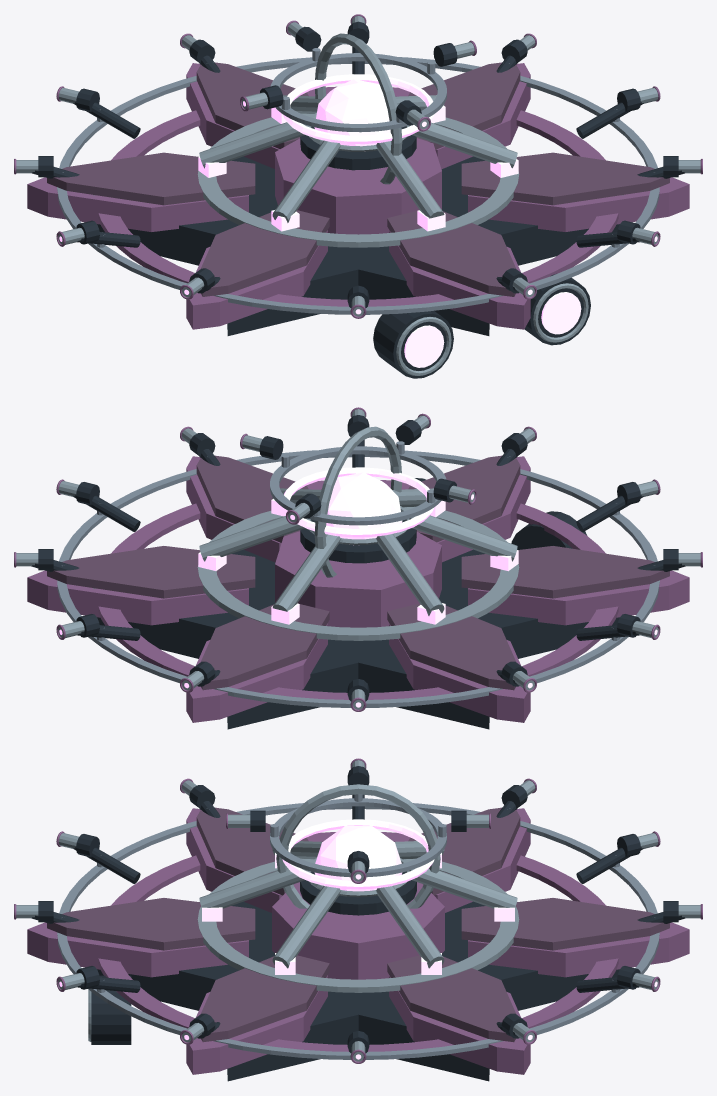
Rendered from chapter5Boss.glb.
3 views of the same model, one above another, from view 1: azimuth 30°, elevation 25°; view 2: azimuth 150°, elevation 25°; view 3: azimuth 270°, elevation 25° (orthographic).
Parts seen in each view (by area): view 1: chapter5Boss / CATEDRAL | armor, chapter5Boss / CATEDRAL | secondary, chapter5Boss / Graphite chassis, chapter5Boss / Titanium, chapter5Boss / CATEDRAL | energy, radial_rotor / Flower bearing titanium, radial_rotor / Graphite chassis, beam_rotor / Flower bearing titanium, radial_rotor / Titanium, beam_rotor / Graphite chassis, beam_rotor / Titanium, radial_rotor / CATEDRAL | armor; view 2: chapter5Boss / CATEDRAL | armor, chapter5Boss / CATEDRAL | secondary, chapter5Boss / Graphite chassis, chapter5Boss / Titanium, radial_rotor / Flower bearing titanium, radial_rotor / Graphite chassis, chapter5Boss / CATEDRAL | energy, beam_rotor / Flower bearing titanium, radial_rotor / Titanium, beam_rotor / Graphite chassis, beam_rotor / Titanium, radial_rotor / CATEDRAL | armor; view 3: chapter5Boss / CATEDRAL | armor, chapter5Boss / CATEDRAL | secondary, chapter5Boss / Titanium, chapter5Boss / Graphite chassis, radial_rotor / Flower bearing titanium, radial_rotor / Graphite chassis, chapter5Boss / CATEDRAL | energy, beam_rotor / Flower bearing titanium, radial_rotor / Titanium, beam_rotor / Graphite chassis, beam_rotor / Titanium, radial_rotor / CATEDRAL | armor.
Boxes of the visible parts, x1=… form: chapter5Boss / CATEDRAL | armor: x1=27, y1=63, x2=689, y2=329; chapter5Boss / CATEDRAL | secondary: x1=47, y1=62, x2=669, y2=296; chapter5Boss / Graphite chassis: x1=97, y1=126, x2=619, y2=378; chapter5Boss / Titanium: x1=197, y1=33, x2=588, y2=375; chapter5Boss / CATEDRAL | energy: x1=198, y1=74, x2=581, y2=367; radial_rotor / Flower bearing titanium: x1=57, y1=57, x2=659, y2=314; radial_rotor / Graphite chassis: x1=32, y1=21, x2=684, y2=308; beam_rotor / Flower bearing titanium: x1=270, y1=48, x2=446, y2=132; radial_rotor / Titanium: x1=16, y1=16, x2=700, y2=316; beam_rotor / Graphite chassis: x1=260, y1=26, x2=457, y2=125; beam_rotor / Titanium: x1=242, y1=22, x2=474, y2=129; radial_rotor / CATEDRAL | armor: x1=14, y1=14, x2=702, y2=318; chapter5Boss / CATEDRAL | armor: x1=27, y1=456, x2=689, y2=722; chapter5Boss / CATEDRAL | secondary: x1=47, y1=455, x2=669, y2=690; chapter5Boss / Graphite chassis: x1=97, y1=478, x2=619, y2=729; chapter5Boss / Titanium: x1=197, y1=426, x2=519, y2=640; radial_rotor / Flower bearing titanium: x1=57, y1=450, x2=659, y2=707; radial_rotor / Graphite chassis: x1=31, y1=415, x2=685, y2=701; chapter5Boss / CATEDRAL | energy: x1=198, y1=467, x2=518, y2=624; beam_rotor / Flower bearing titanium: x1=270, y1=441, x2=446, y2=525; radial_rotor / Titanium: x1=16, y1=409, x2=700, y2=709; beam_rotor / Graphite chassis: x1=259, y1=420, x2=456, y2=518; beam_rotor / Titanium: x1=242, y1=415, x2=474, y2=522; radial_rotor / CATEDRAL | armor: x1=14, y1=407, x2=702, y2=711; chapter5Boss / CATEDRAL | armor: x1=27, y1=808, x2=689, y2=1074; chapter5Boss / CATEDRAL | secondary: x1=47, y1=807, x2=669, y2=1042; chapter5Boss / Titanium: x1=88, y1=784, x2=519, y2=1041; chapter5Boss / Graphite chassis: x1=91, y1=871, x2=619, y2=1081; radial_rotor / Flower bearing titanium: x1=57, y1=803, x2=659, y2=1059; radial_rotor / Graphite chassis: x1=31, y1=782, x2=685, y2=1053; chapter5Boss / CATEDRAL | energy: x1=202, y1=819, x2=514, y2=974; beam_rotor / Flower bearing titanium: x1=270, y1=794, x2=446, y2=877; radial_rotor / Titanium: x1=16, y1=780, x2=700, y2=1061; beam_rotor / Graphite chassis: x1=250, y1=766, x2=466, y2=873; beam_rotor / Titanium: x1=228, y1=760, x2=488, y2=881; radial_rotor / CATEDRAL | armor: x1=14, y1=768, x2=702, y2=1063.
Bounding box in the file's own units: 5.66 × 2.03 × 5.66.
